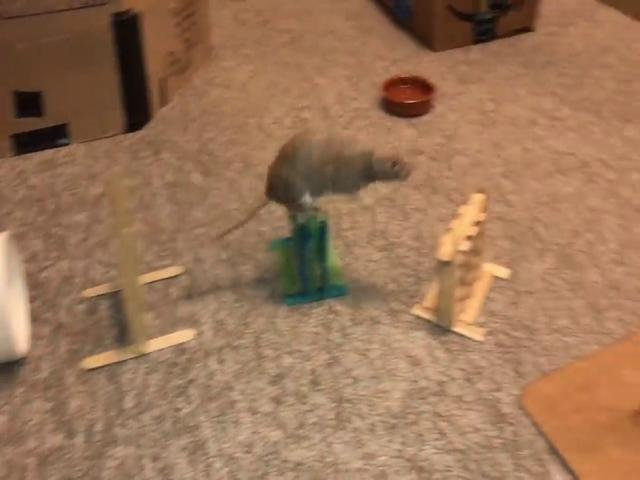Tikus: (209, 124, 410, 239)
